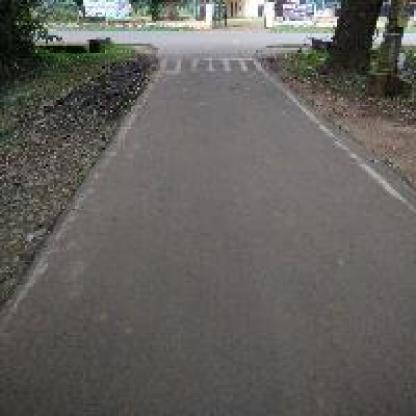Speed Bump: (154, 52, 272, 77)
